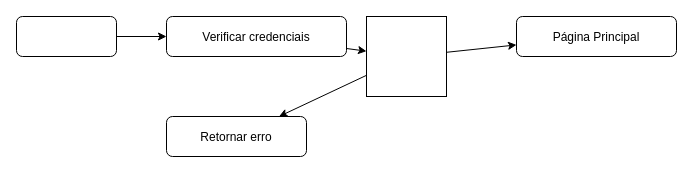
Image size: 693x173. Some labels were removed from this diagram. The shapes that lost their labels are listed below. From the top down, each one's box as (x1, y1, x2, y2) in pixels, then its label:
(16, 16, 116, 56): Login
(366, 16, 446, 96): Acesso autorizado?
